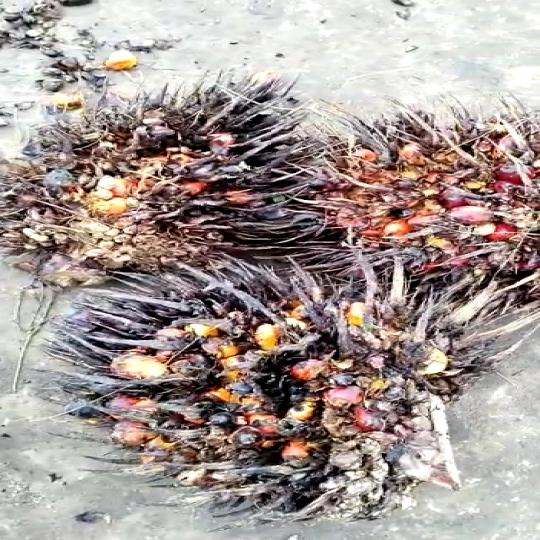terlalu masak: (13, 262, 528, 528), (253, 114, 540, 312)
